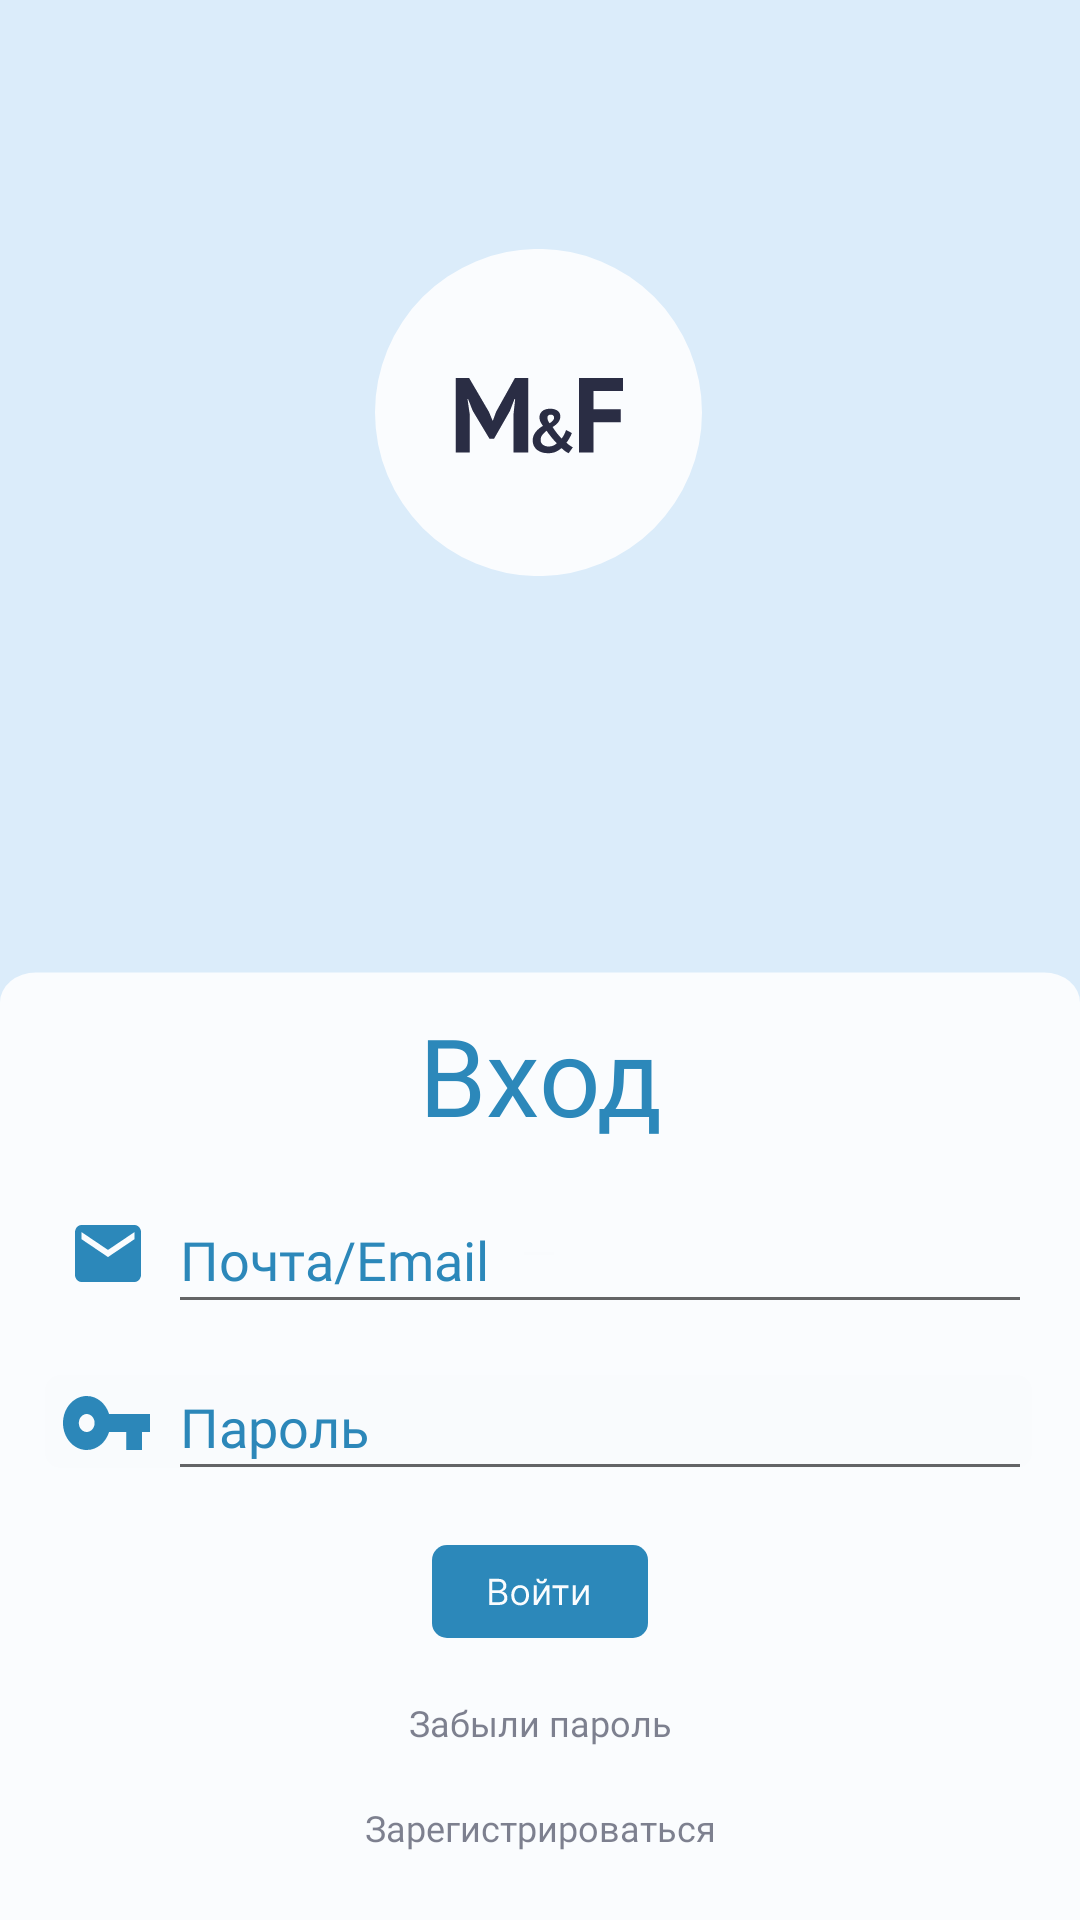

Point at icon controls on the screen. Image size 1080px x 1920px, points as (x,y).
password: (106,1423)
